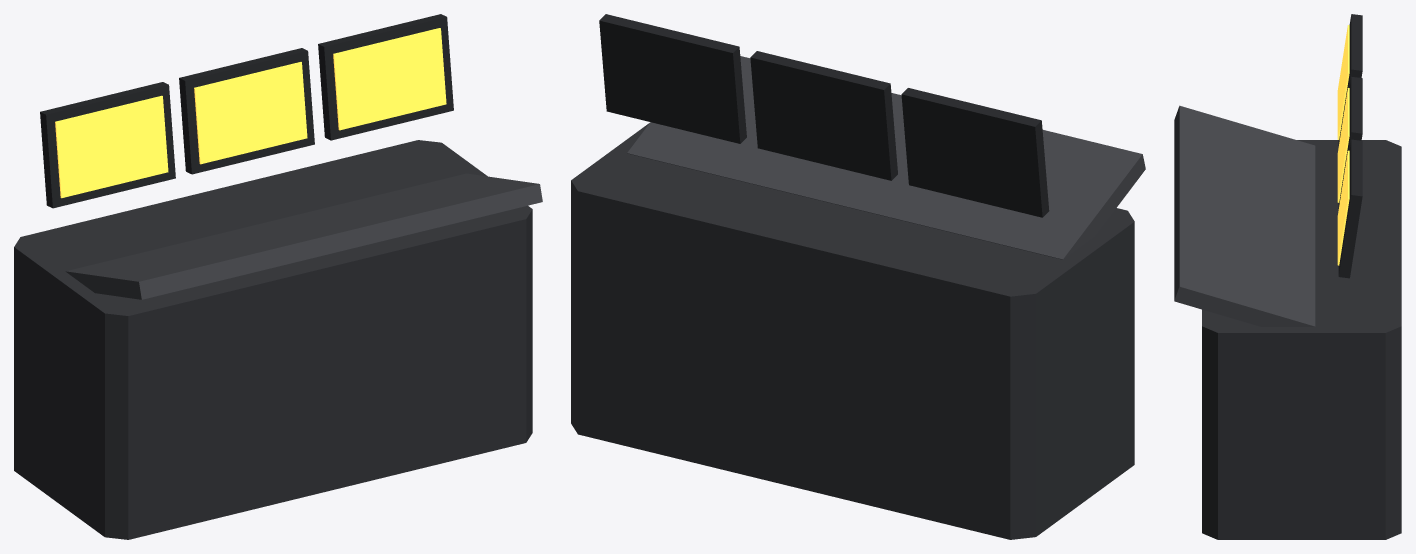
Rendered from nvg_prp_console_a.glb.
3 renders of one model, left to right at view 1: azimuth 30°, elevation 25°; view 2: azimuth 150°, elevation 25°; view 3: azimuth 270°, elevation 25°, orthographic. The views are drawn at different scales.
Visible parts, largest first — view 1: mesh_intact; view 2: mesh_intact; view 3: mesh_intact.
Part boxes in pixels (bbox=[...]): mesh_intact: bbox=[14, 14, 542, 539]; mesh_intact: bbox=[571, 14, 1145, 539]; mesh_intact: bbox=[1174, 14, 1401, 539].
Bounding box in the file's own units: 1.6 × 1.31 × 0.797.
